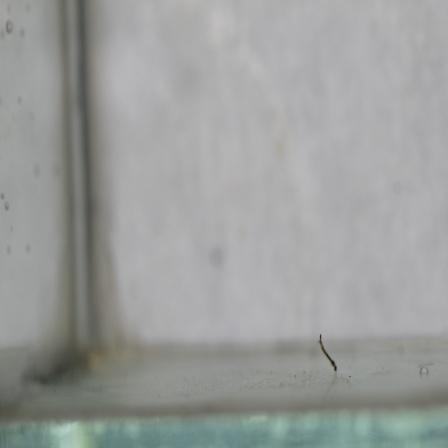Jentik-Nyamuk: (314, 329, 342, 376)
